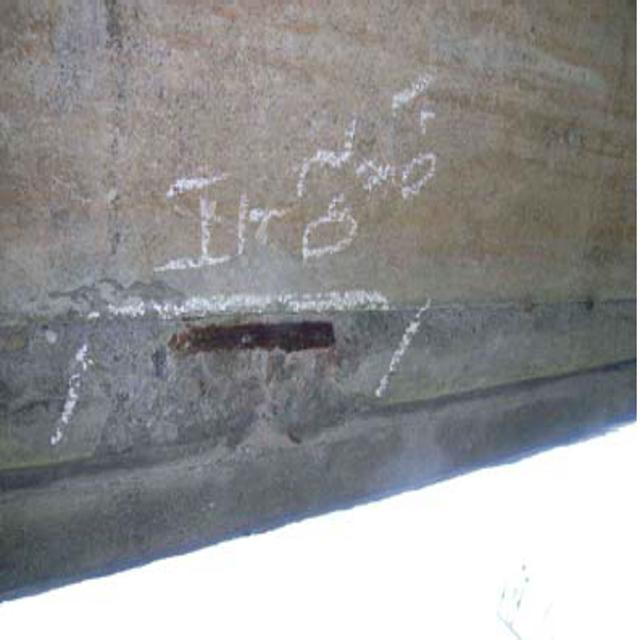spalling: (63, 292, 401, 457)
